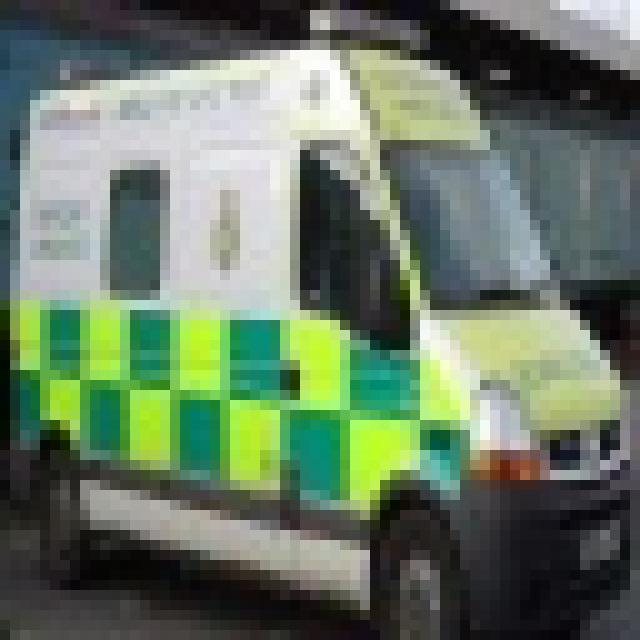Ambulance: (0, 30, 630, 630)
